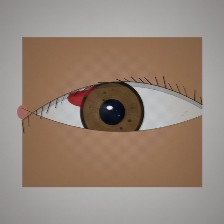hemorrhage_spot: (59, 73, 122, 124)
